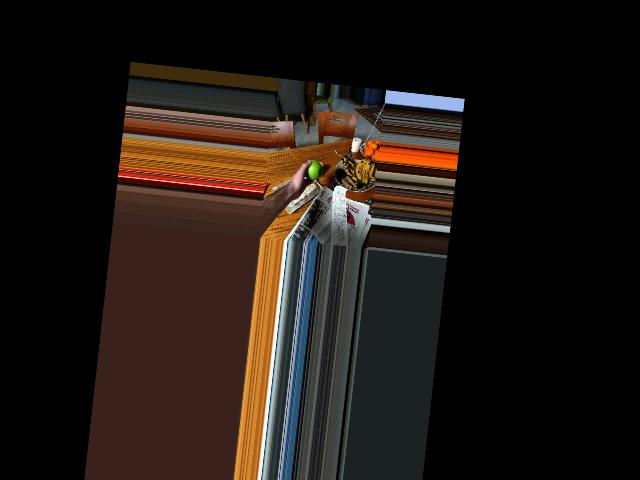apple: (300, 157, 323, 183)
